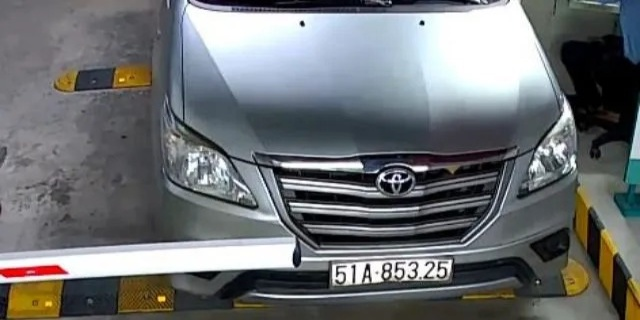bien_so: (330, 261, 448, 286)
